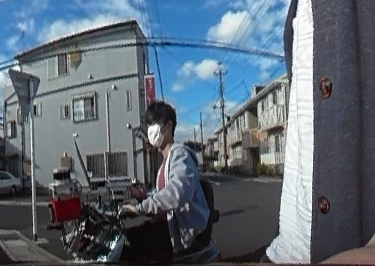person: (129, 102, 213, 243)
